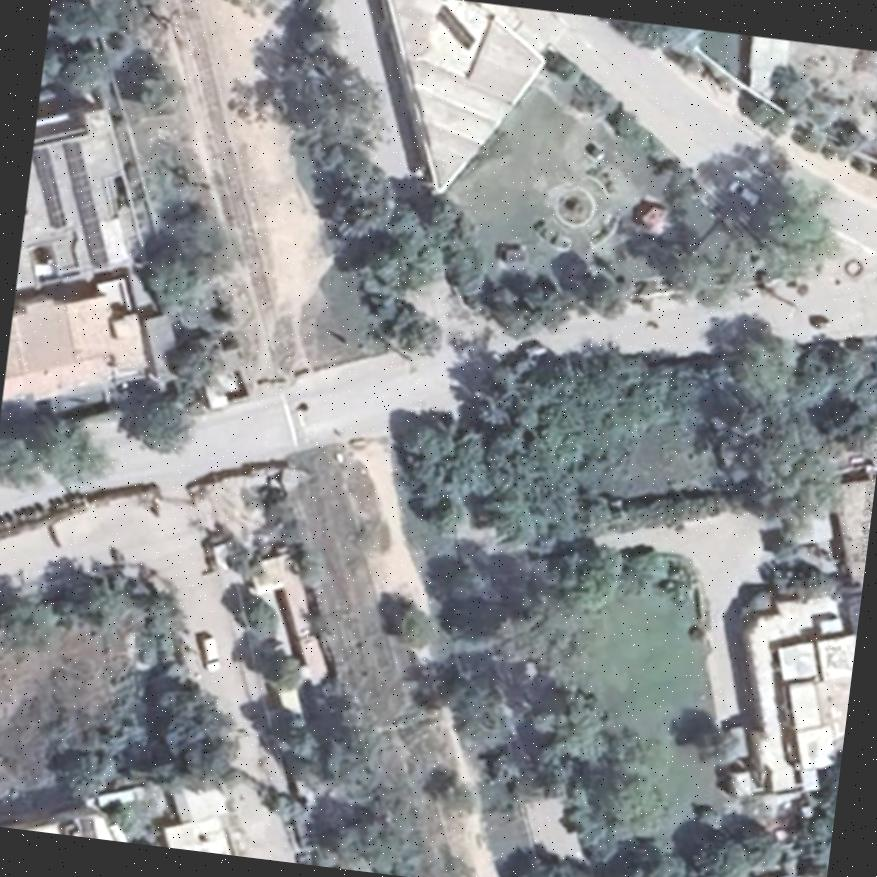Solarpanel: (64, 141, 106, 261), (32, 148, 64, 226)
